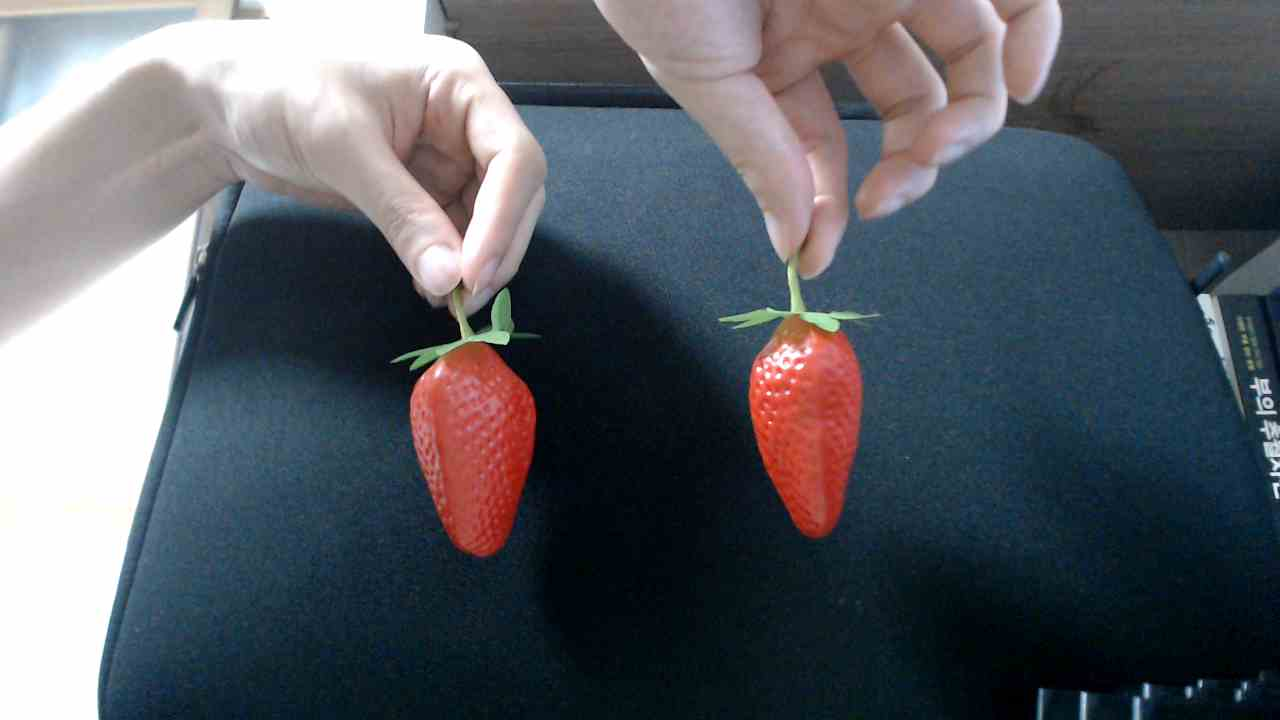strawberry: (721, 290, 876, 550), (396, 321, 546, 558)
